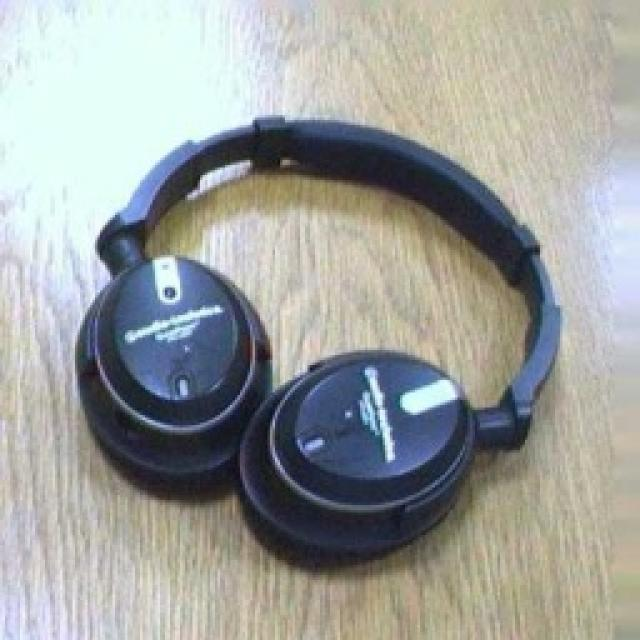headphones: (72, 113, 562, 565)
